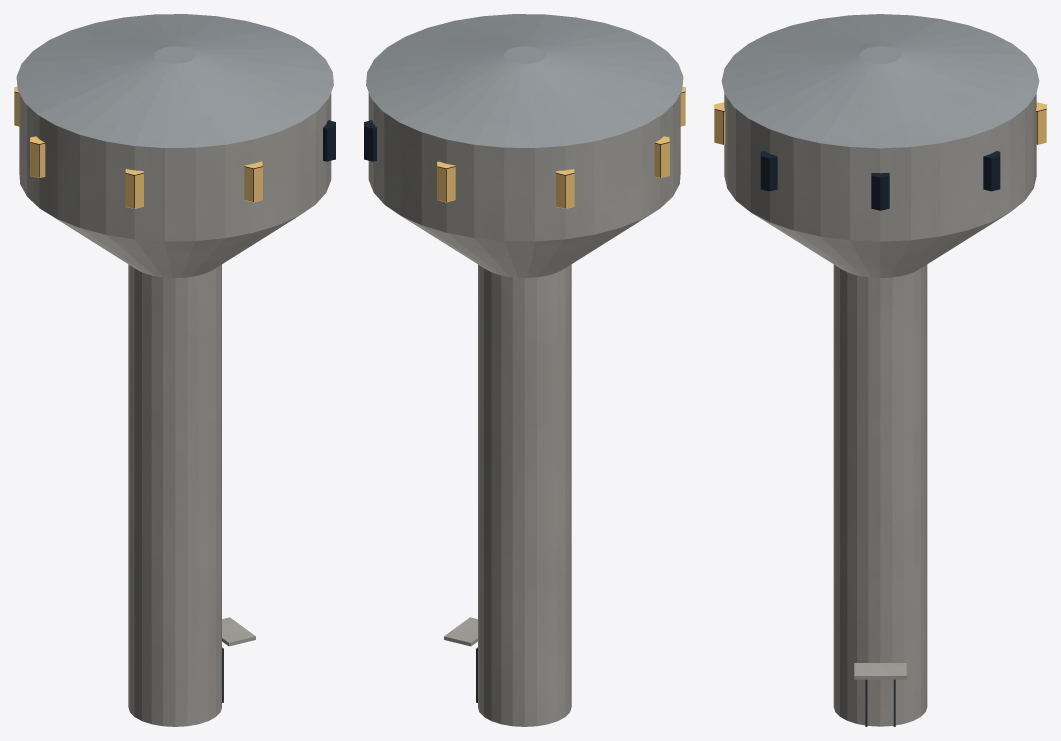
Rendered from pv_vodojem.glb.
The picture shows the model from 3 angles, left to right: view 1: azimuth 30°, elevation 25°; view 2: azimuth 150°, elevation 25°; view 3: azimuth 270°, elevation 25°; orthographic projection.
Visible parts, largest first — view 1: dum, noc; view 2: dum, noc; view 3: dum, noc.
Part boxes in pixels (x1,y1,x2,y2): dum: (15,14,335,726); noc: (14,86,262,208); dum: (364,14,684,726); noc: (437,86,685,208); dum: (714,14,1046,726); noc: (714,102,1046,144).
Size of the model in its own units: 12.82 by 27.53 by 12.74.
1 material, 1 textured.
